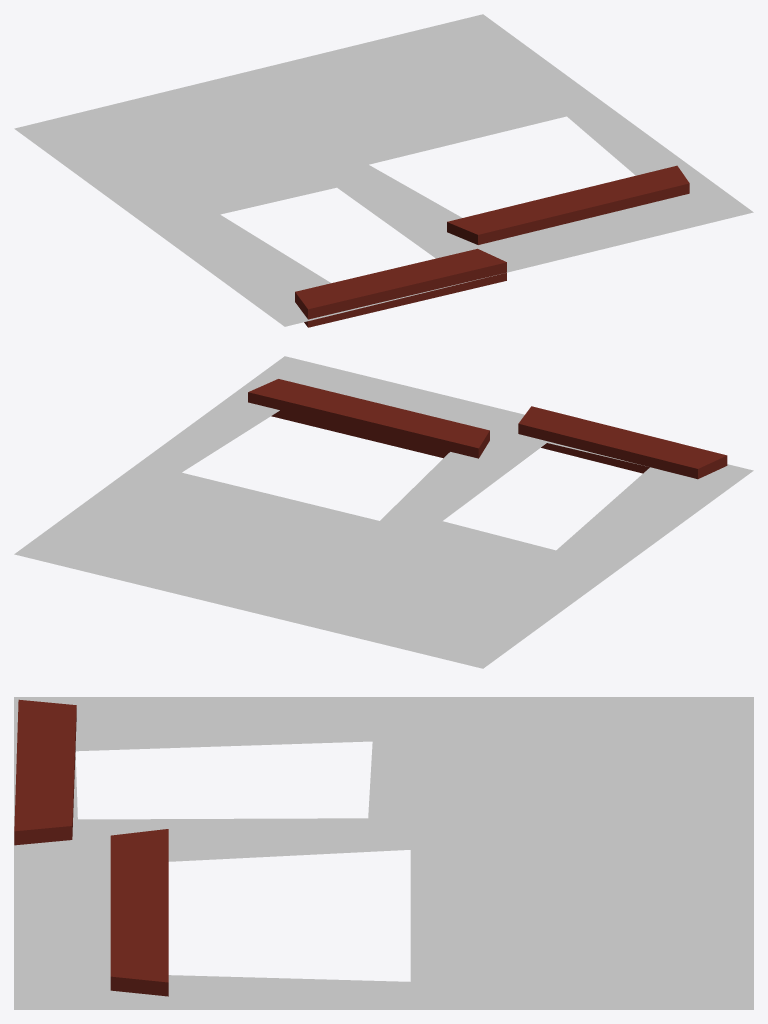
Rendered from frontwall.fbx.
The picture shows the model from 3 angles, top to bottom: view 1: azimuth 30°, elevation 25°; view 2: azimuth 150°, elevation 25°; view 3: azimuth 270°, elevation 25°; orthographic projection. The views are drawn at different scales.
Visible parts, largest first — view 1: FrontWall, step, window_sill; view 2: FrontWall, window_sill, step; view 3: FrontWall, window_sill, step.
Part boxes in pixels (bbox=[...]): FrontWall: bbox=[14, 14, 753, 326]; step: bbox=[295, 248, 506, 327]; window_sill: bbox=[447, 165, 689, 244]; FrontWall: bbox=[14, 356, 753, 668]; window_sill: bbox=[248, 379, 489, 458]; step: bbox=[518, 406, 727, 479]; FrontWall: bbox=[14, 697, 753, 1009]; window_sill: bbox=[110, 829, 168, 996]; step: bbox=[14, 699, 76, 845].
Bounding box in the file's own units: 1034 × 38.89 × 1034.
